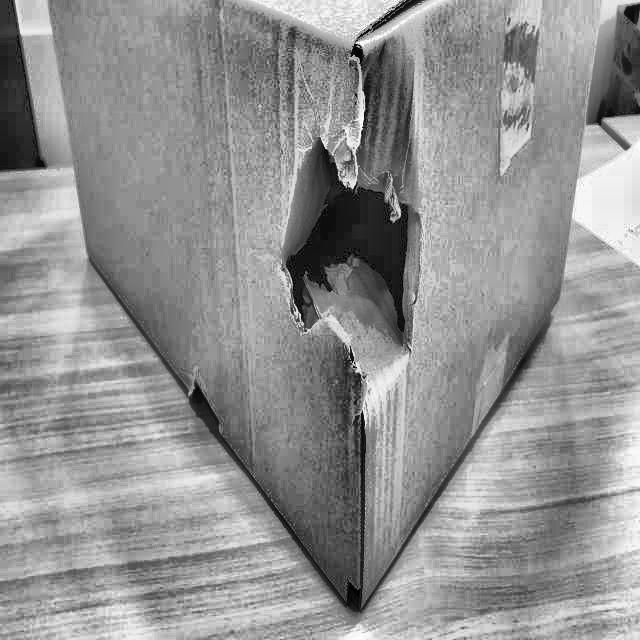box: (36, 0, 615, 633)
hole: (280, 119, 420, 387), (186, 378, 224, 428)
